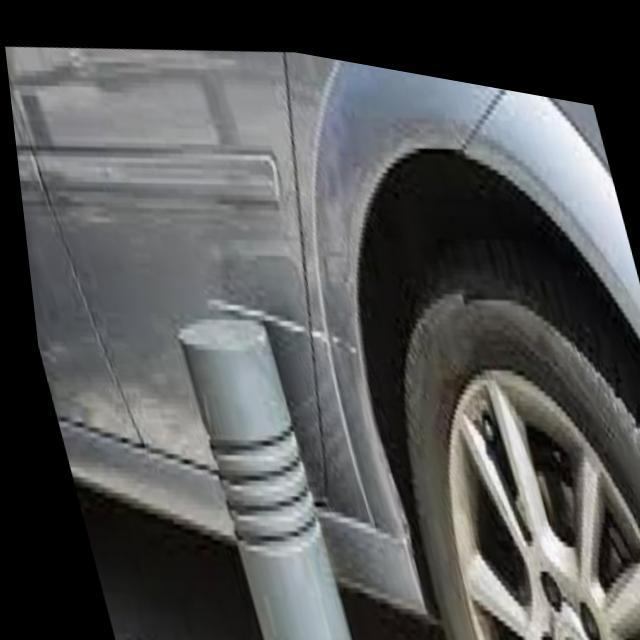scratch: (190, 272, 354, 370)
